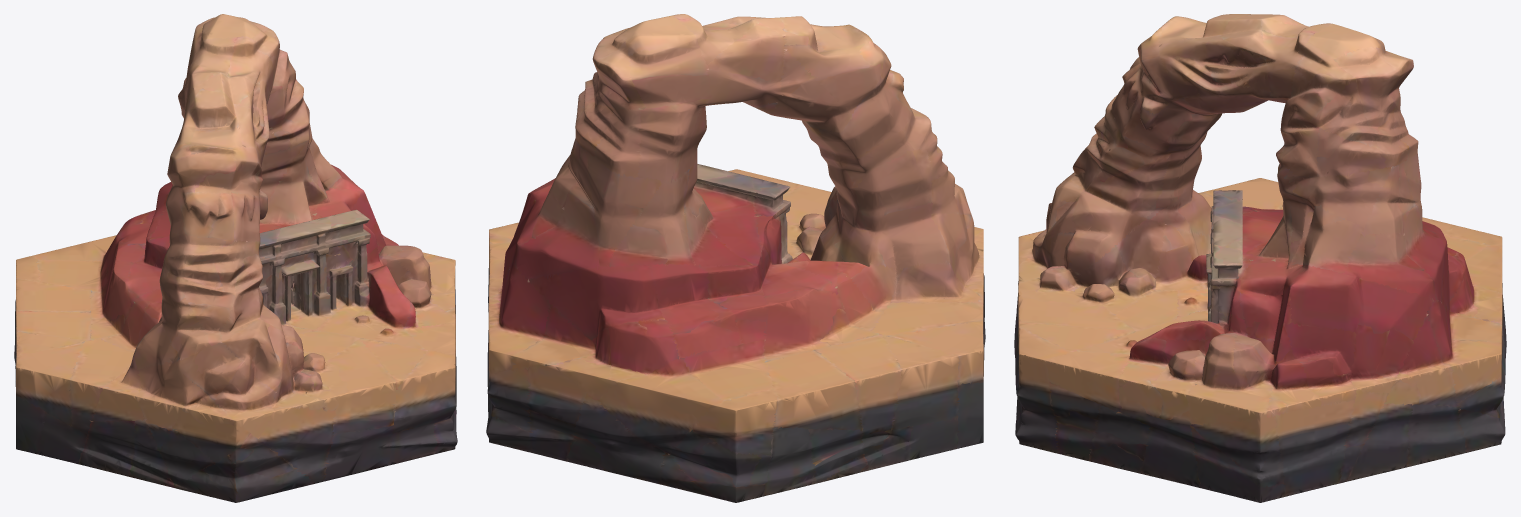
File: sandtile_lv4.glb
3 views of the same model, side by side, from view 1: azimuth 30°, elevation 25°; view 2: azimuth 150°, elevation 25°; view 3: azimuth 270°, elevation 25° (orthographic). The views are drawn at different scales.
Size of the model in its own units: 1.9 by 1.39 by 1.68.
Materials: 1 (1 with a texture image).
